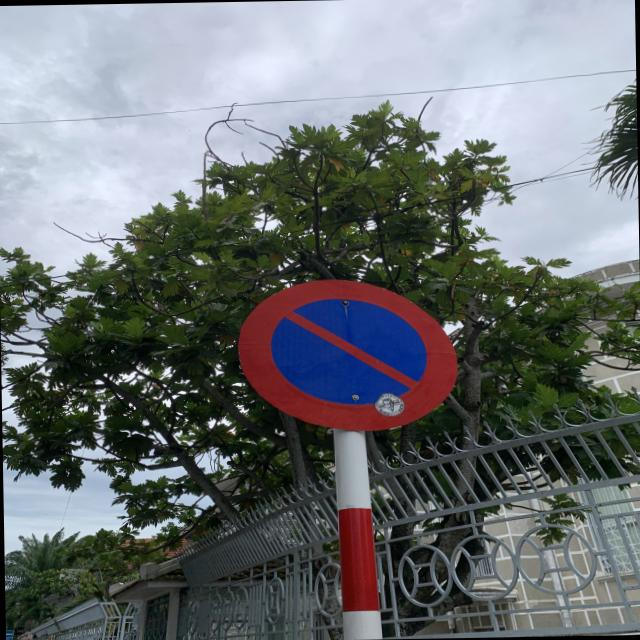Cam_Dau_Xe: (233, 276, 462, 432)
